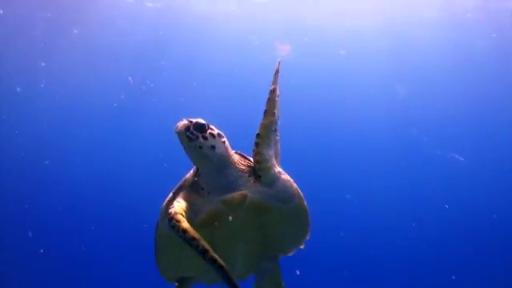Fish: (155, 63, 309, 287)
